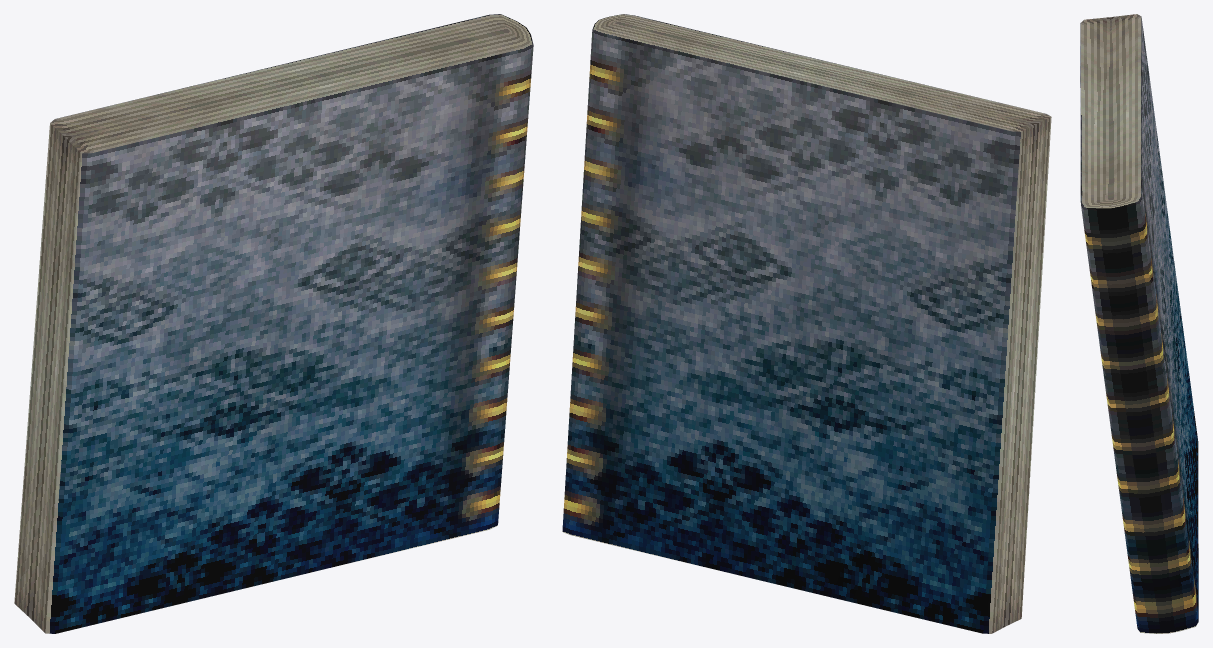
File: ps2_save-icons_fatalframe3-albumdata.glb
3 views of the same model, side by side, from view 1: azimuth 30°, elevation 25°; view 2: azimuth 150°, elevation 25°; view 3: azimuth 270°, elevation 25° (orthographic). The views are drawn at different scales.
Visible parts, largest first — view 1: zero-b-album0.ico; view 2: zero-b-album0.ico; view 3: zero-b-album0.ico.
Part boxes in pixels (left/top/right/bottom): zero-b-album0.ico: left=14, top=14, right=533, bottom=633; zero-b-album0.ico: left=562, top=14, right=1051, bottom=633; zero-b-album0.ico: left=1080, top=14, right=1198, bottom=633.
Bounding box in the file's own units: 3.58 × 3.79 × 0.9373.
Materials: 1 (1 with a texture image).
